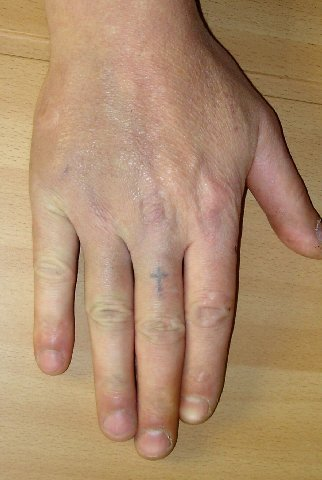tatu9_krest: (143, 262, 177, 301)
